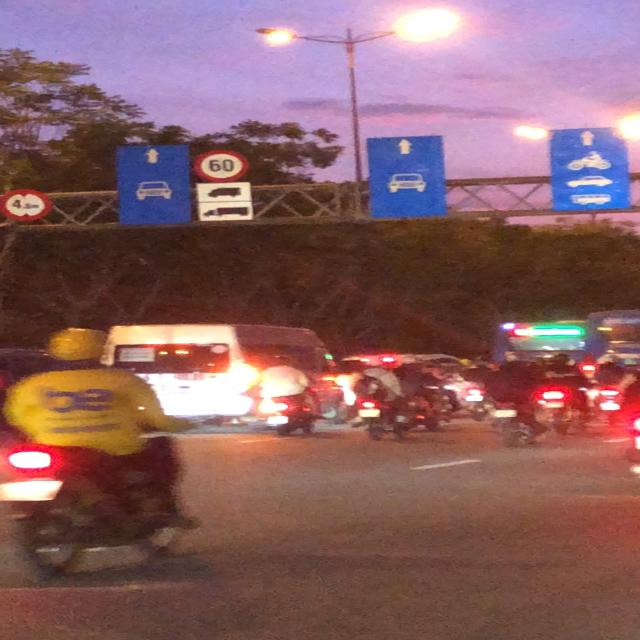Bien bao han che chieu cao: (0, 185, 52, 227)
Bien bao toc do toi da cho phep: (187, 148, 249, 180)
